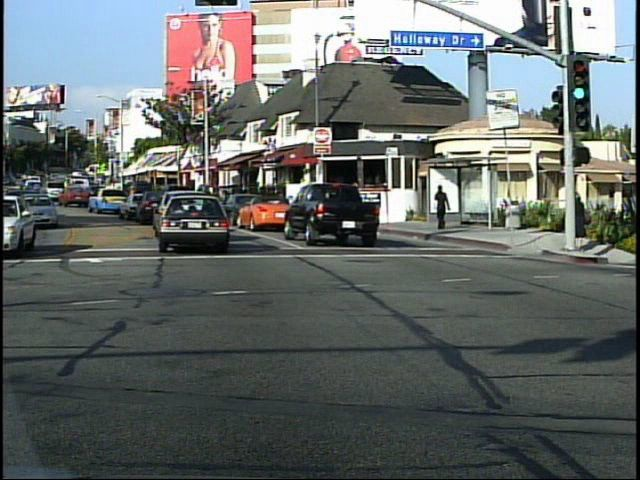person: (570, 190, 599, 263), (433, 180, 455, 236)
